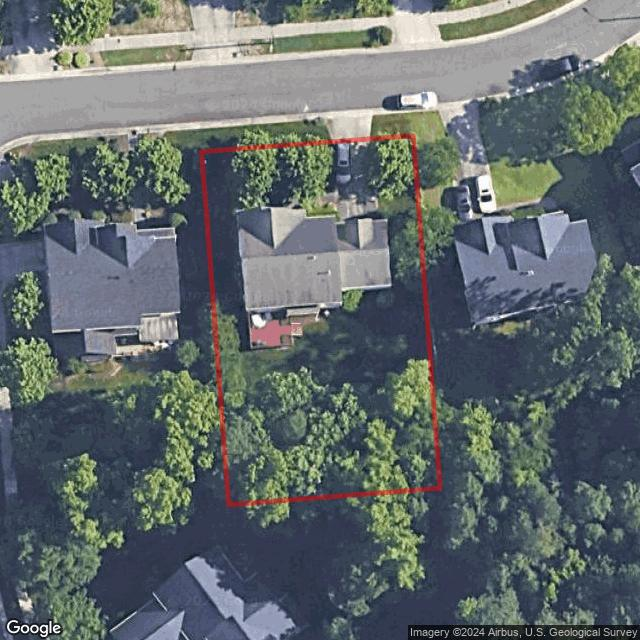Driveway: (328, 139, 380, 222)
Extra-Driveway: (322, 115, 375, 143)
Extra-Lawn: (199, 121, 331, 152), (372, 111, 414, 140)
House: (238, 203, 393, 312)
Lawn: (201, 136, 441, 504)
Other: (219, 372, 443, 506), (245, 308, 323, 353)
Sidewalk: (264, 191, 335, 208)
